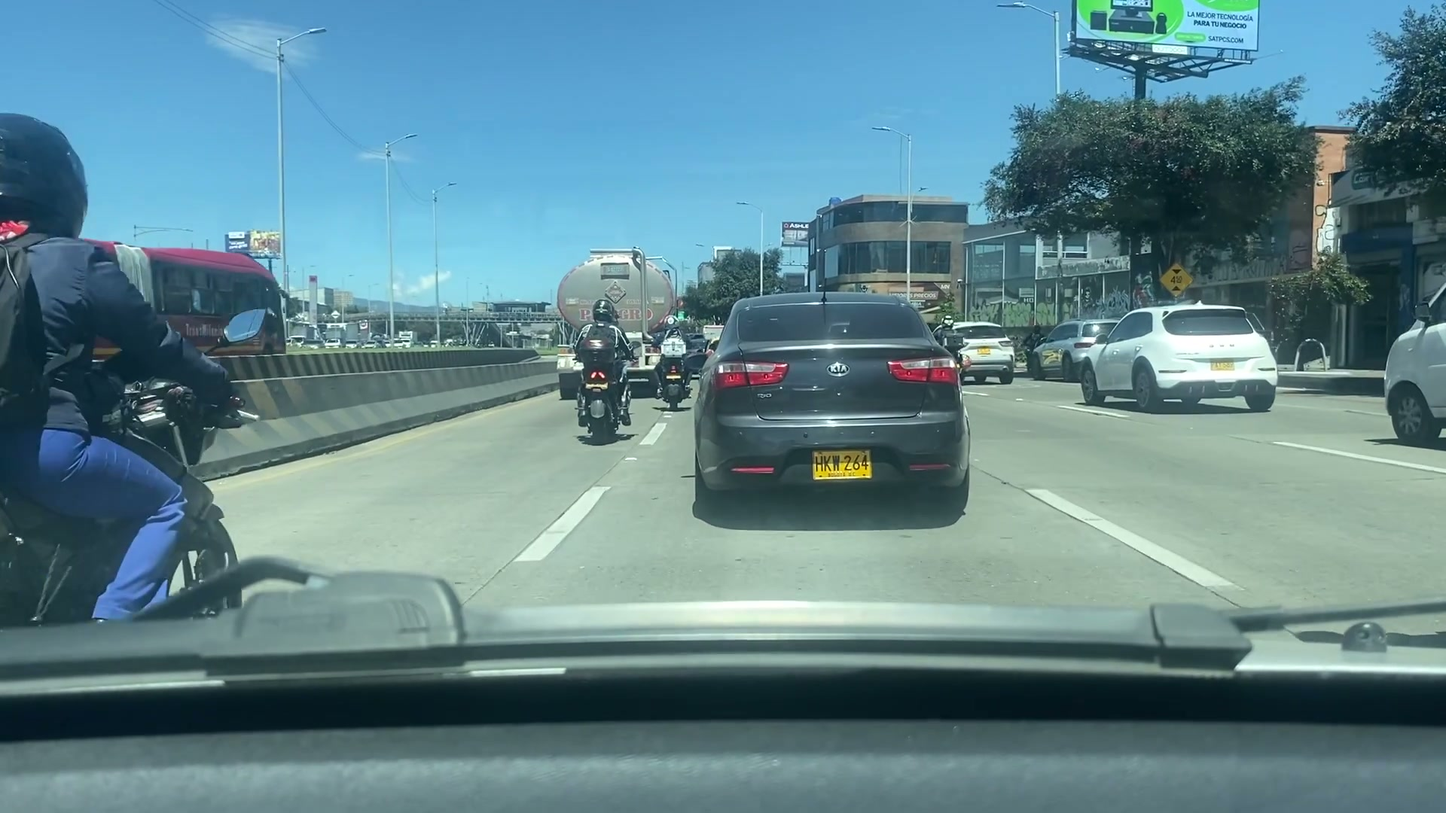car: (693, 293, 970, 517), (1079, 302, 1277, 408), (1381, 279, 1446, 446), (1029, 320, 1130, 380), (933, 317, 1018, 382)
motorcycle: (1, 310, 289, 625), (571, 369, 635, 440), (651, 356, 695, 412)
person: (0, 109, 245, 616), (578, 295, 630, 425), (654, 314, 692, 395), (935, 314, 966, 373)
truck: (542, 245, 687, 395)
